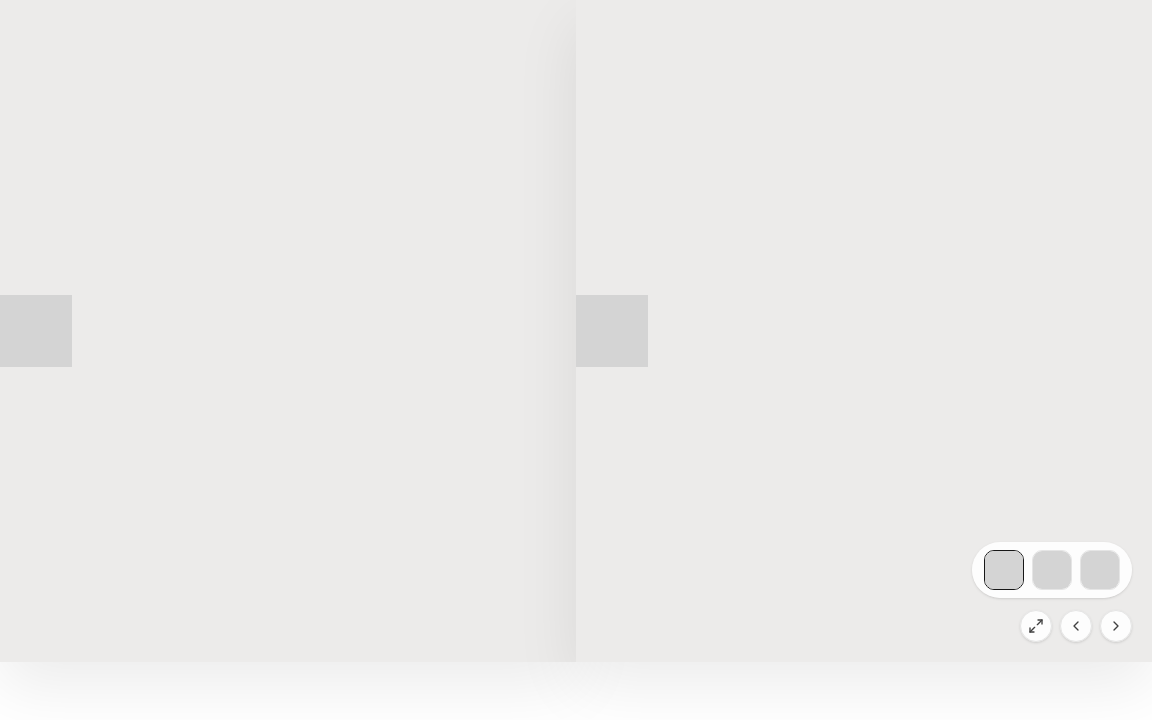
Scenario: ProductGallery › full screen › closes with the close button and with Escape
Step 1. Click the button named "Pantalla completa" → (1036, 626), box [1020,610,1052,642]
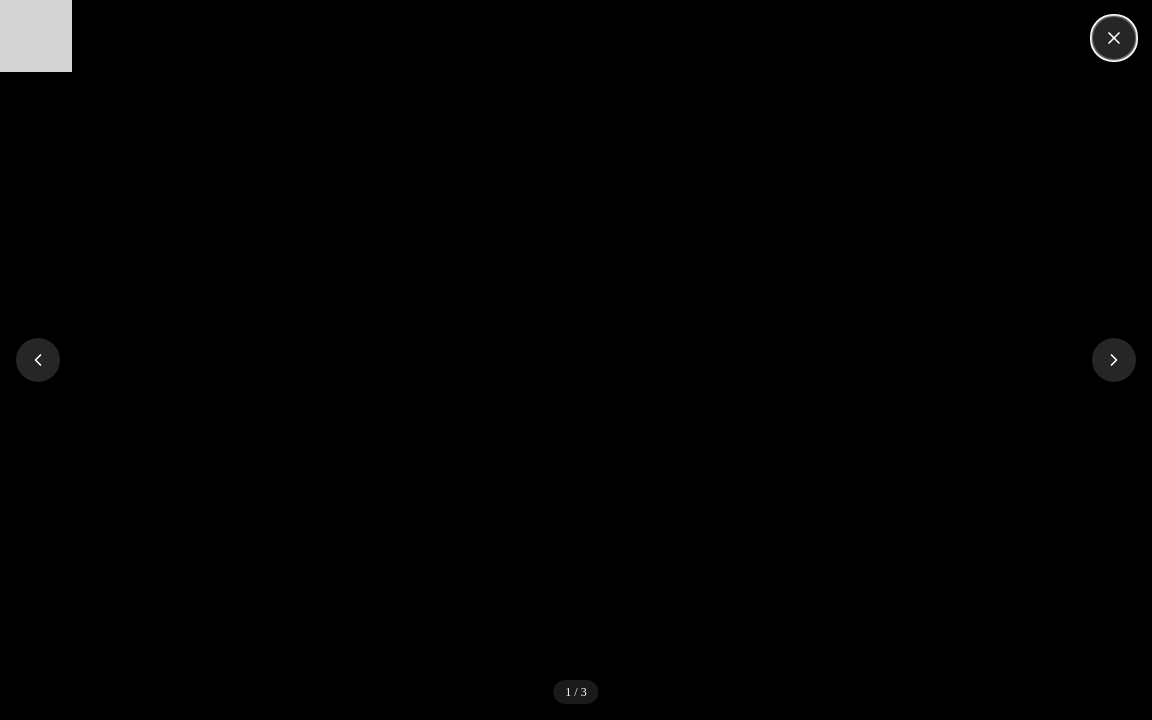
Step 2. Click the button named "Cerrar pantalla completa" → (1114, 38), box [1092,16,1136,60]
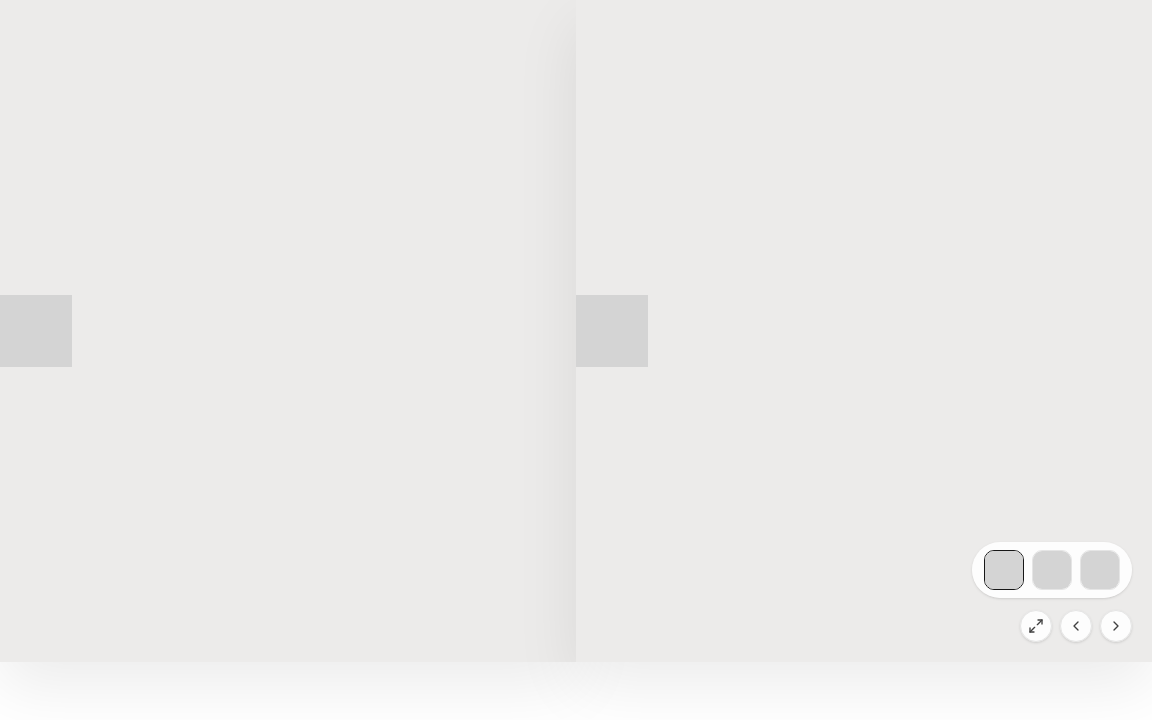
Check: the dialog is gone
Step 3. Click the button named "Pantalla completa" → (1036, 626), box [1020,610,1052,642]
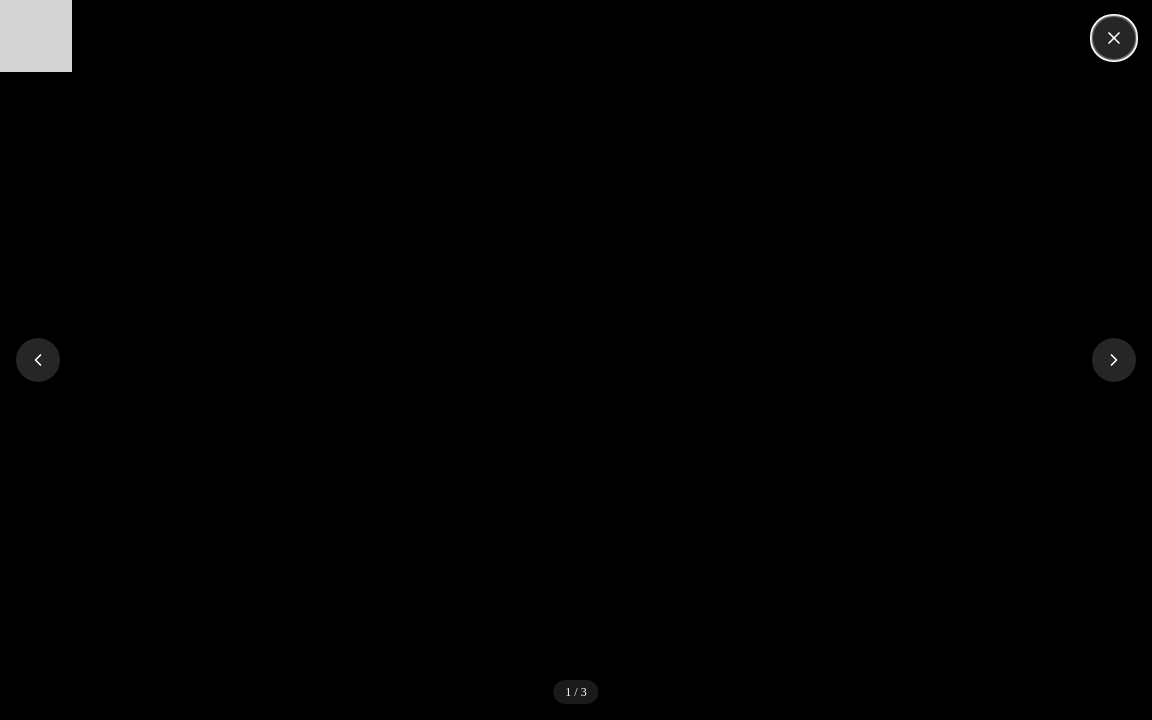
Step 4. Press Escape
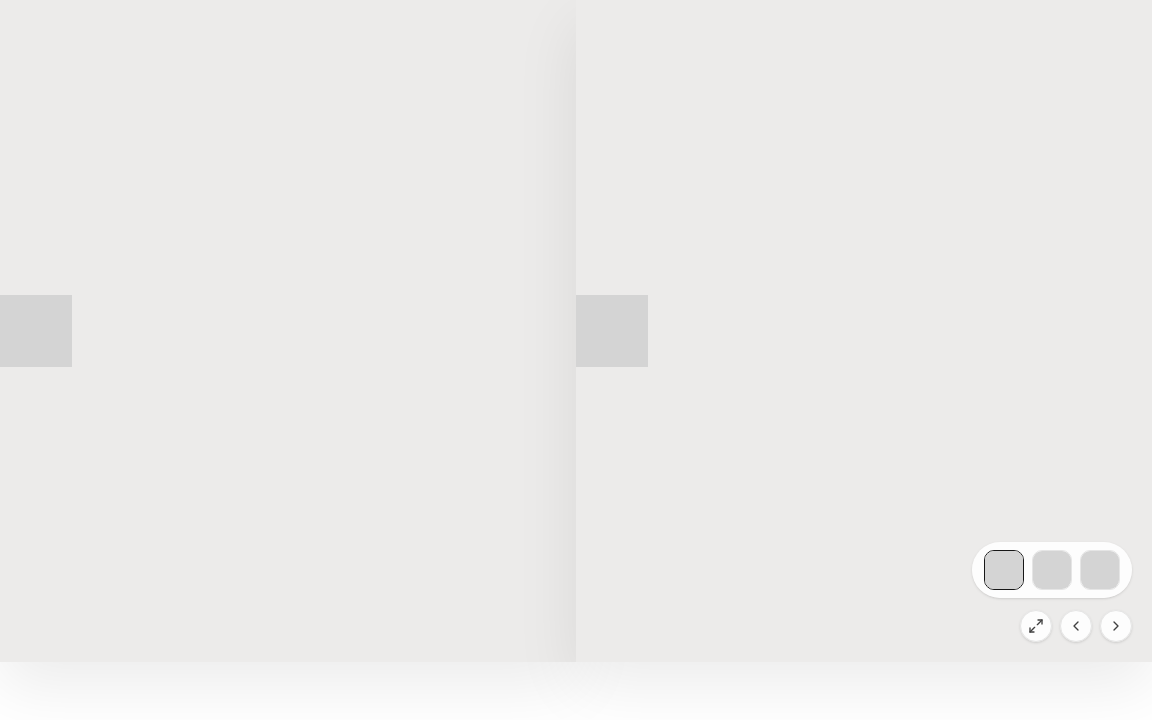
Check: the dialog is gone
